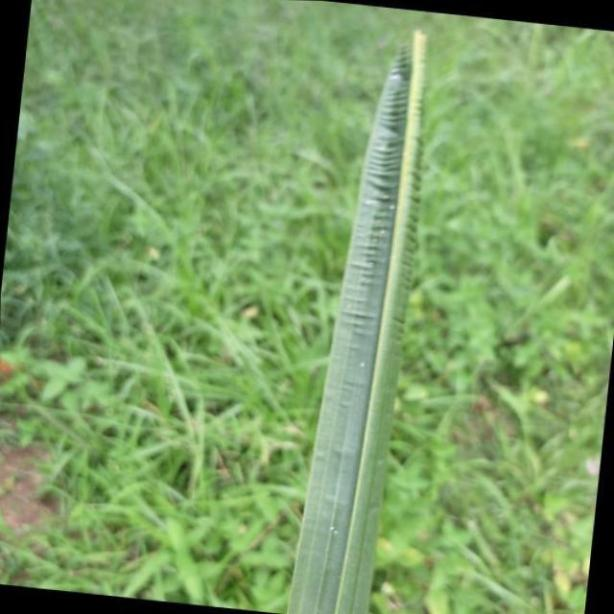Boron: (284, 25, 433, 614)
